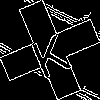K: (25, 25, 73, 80)
